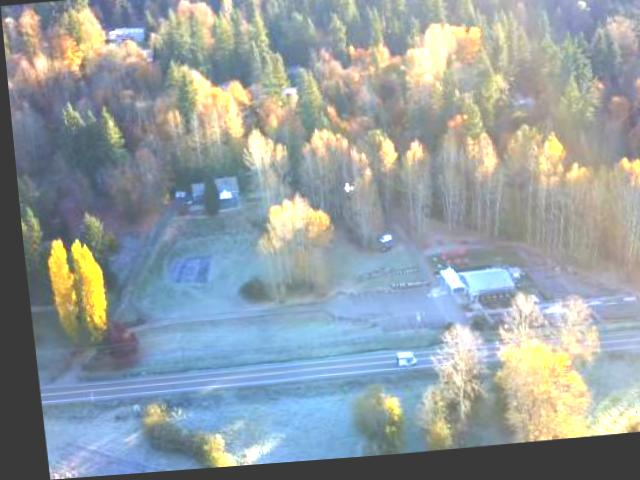uav: (336, 180, 354, 204)
